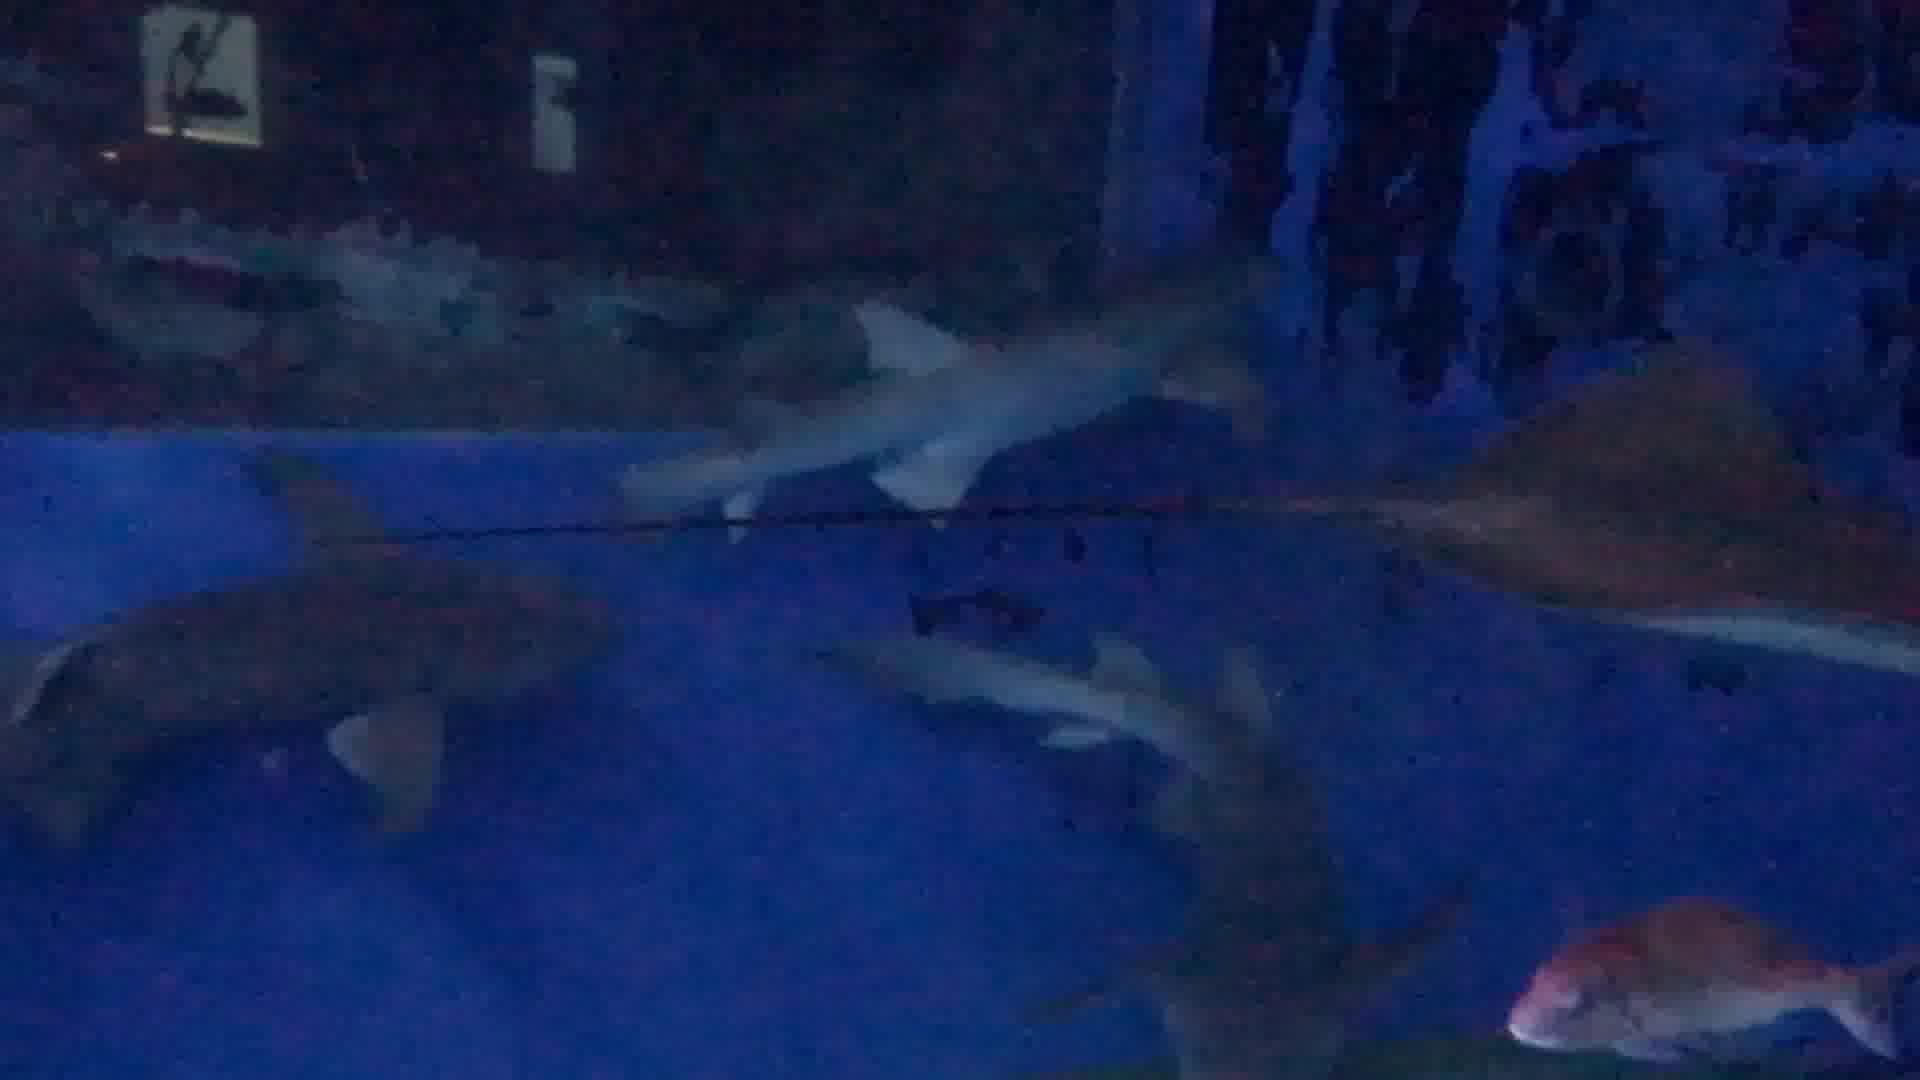Nebrius ferrugineus: (885, 708, 1485, 1080), (1, 454, 600, 825)
